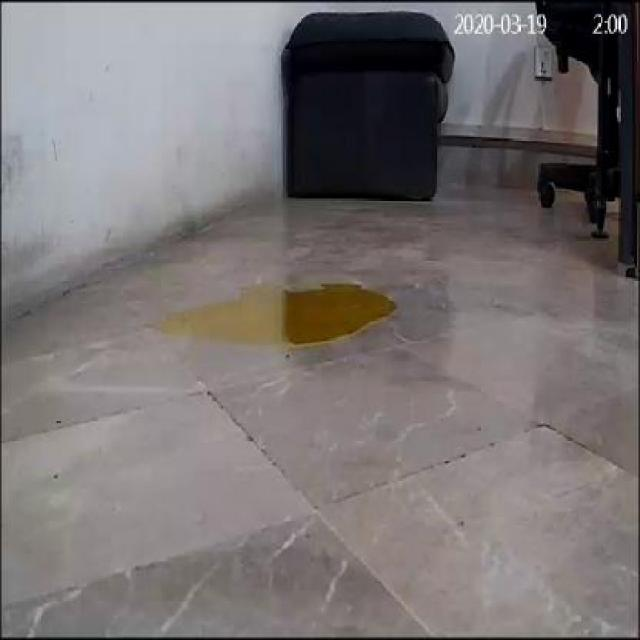spill: (166, 282, 400, 347)
